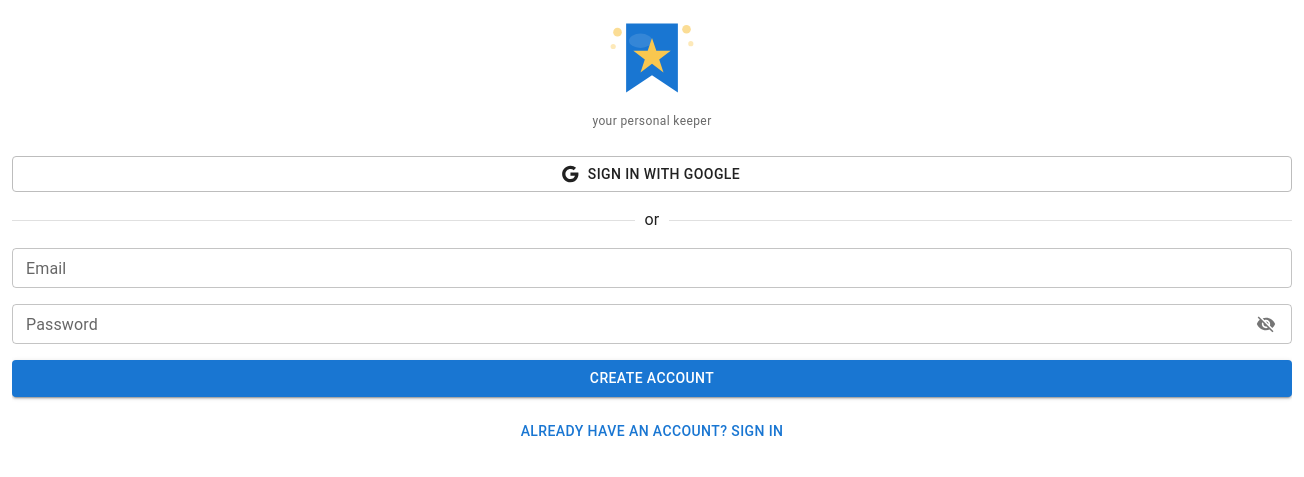
Test: SignUpPage › shows an error when password is empty
Type "test@example.com" into the field labelled "Email" at (652, 268), box [12,248,1292,288]
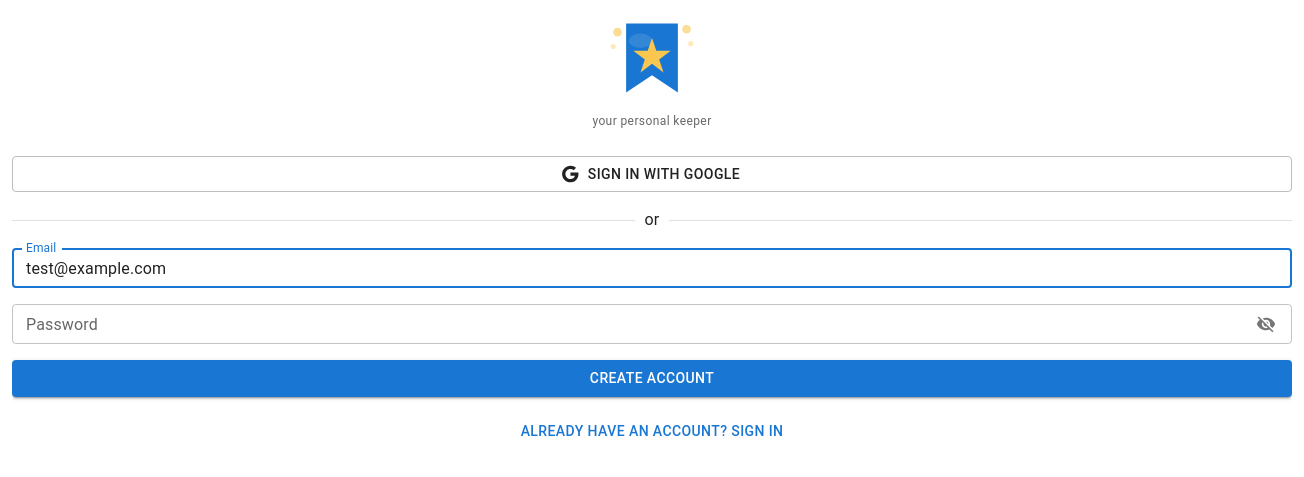
Click the button "Create account" at (652, 379), box [12,360,1292,397]
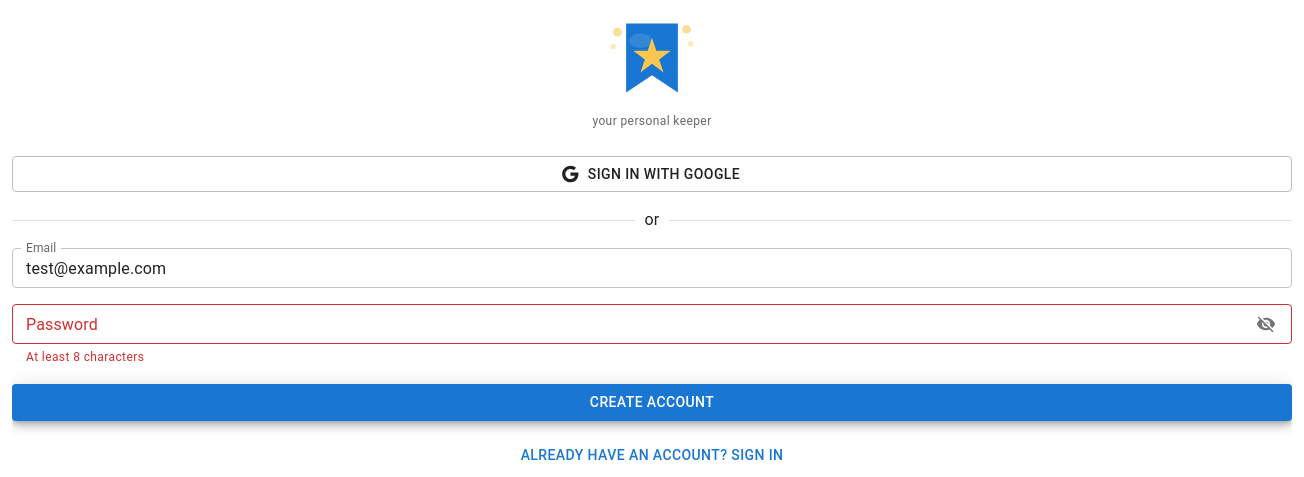
Check: the text "At least 8 characters" is shown, box [26,350,144,364]
